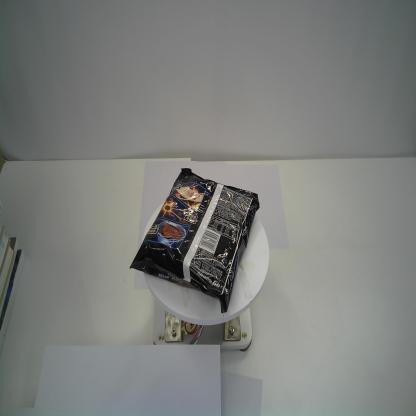Instant Noodles: (128, 167, 259, 315)
